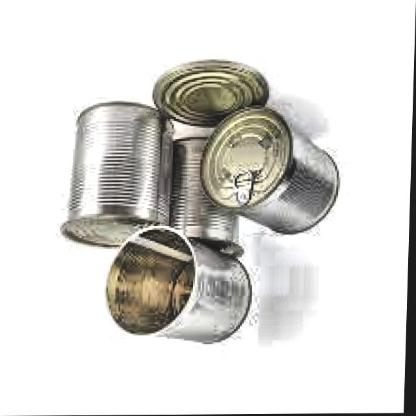Can: (101, 220, 263, 352), (199, 104, 345, 240), (57, 92, 177, 252), (162, 133, 250, 271), (146, 57, 274, 137)
